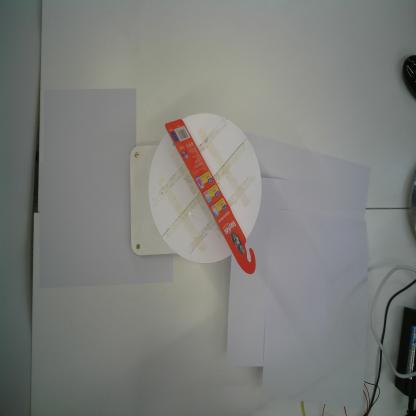Personal Hygiene: (164, 118, 256, 276)
